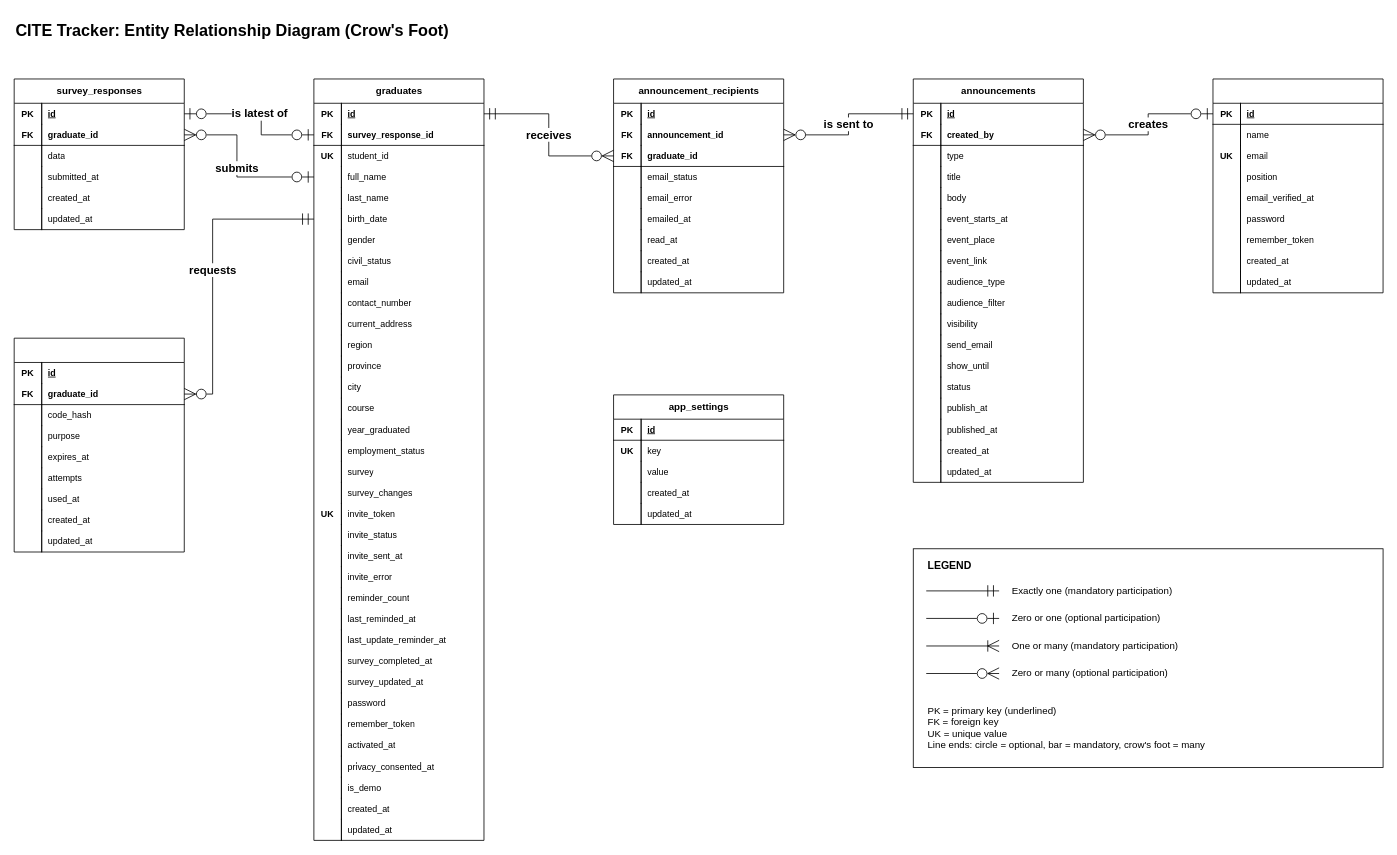
This 1397x855 diagram has some shape labels left out. Each missing label, with the box of its shape:
graduate_login_codes: (13, 337, 184, 552)
users: (1212, 78, 1383, 293)
